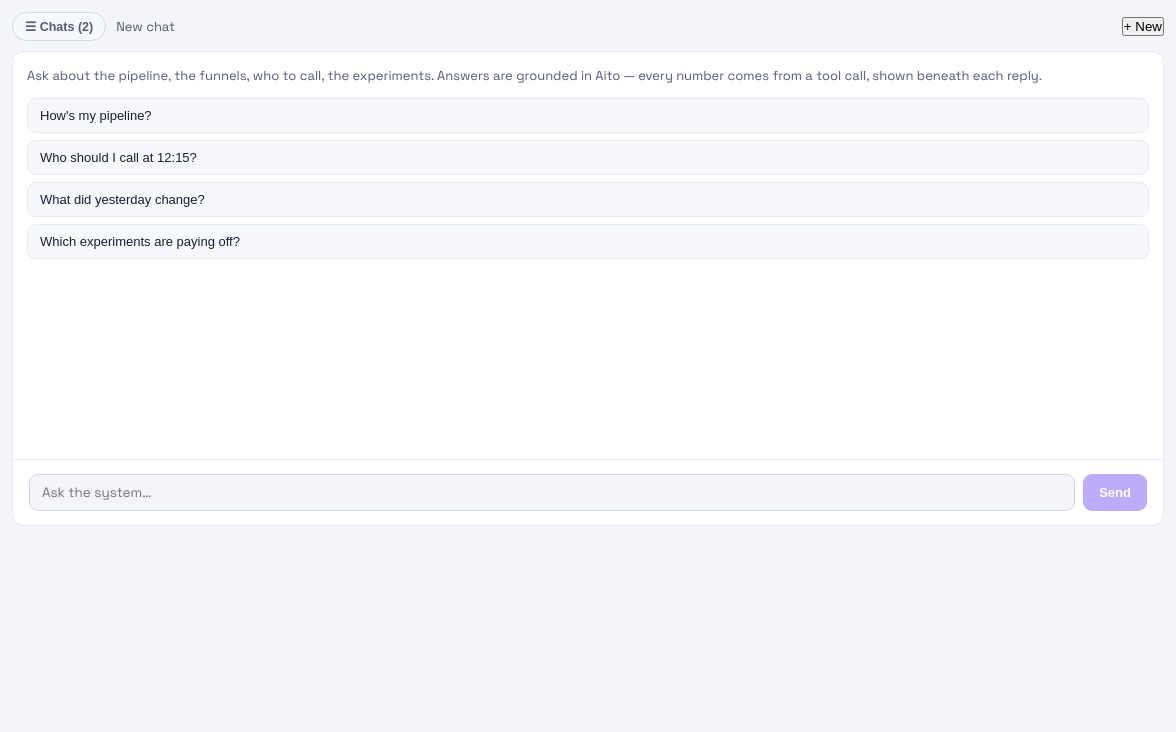
Scenario: Chat view › deletes a conversation only after a confirm (two taps)
Click the button "+ New" at (1143, 26), box x1=1122 y1=17 x2=1164 y2=36
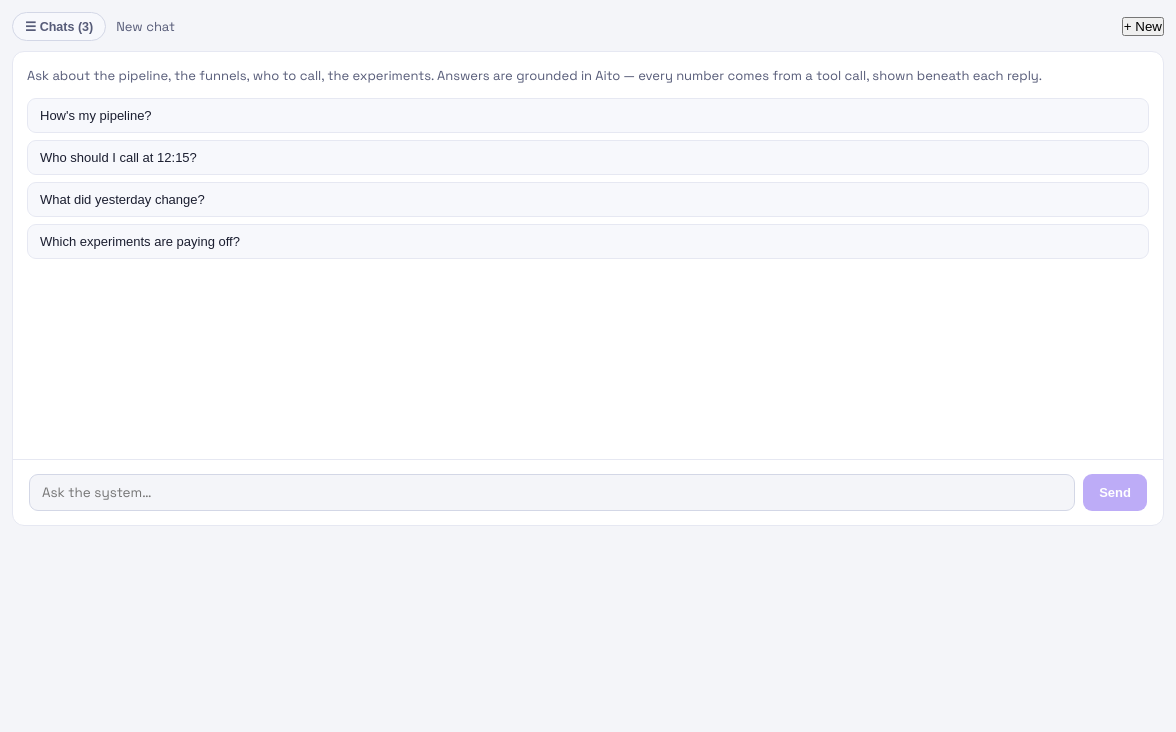
Click the button "☰ Chats (3)" at (59, 26), box x1=12 y1=12 x2=106 y2=41
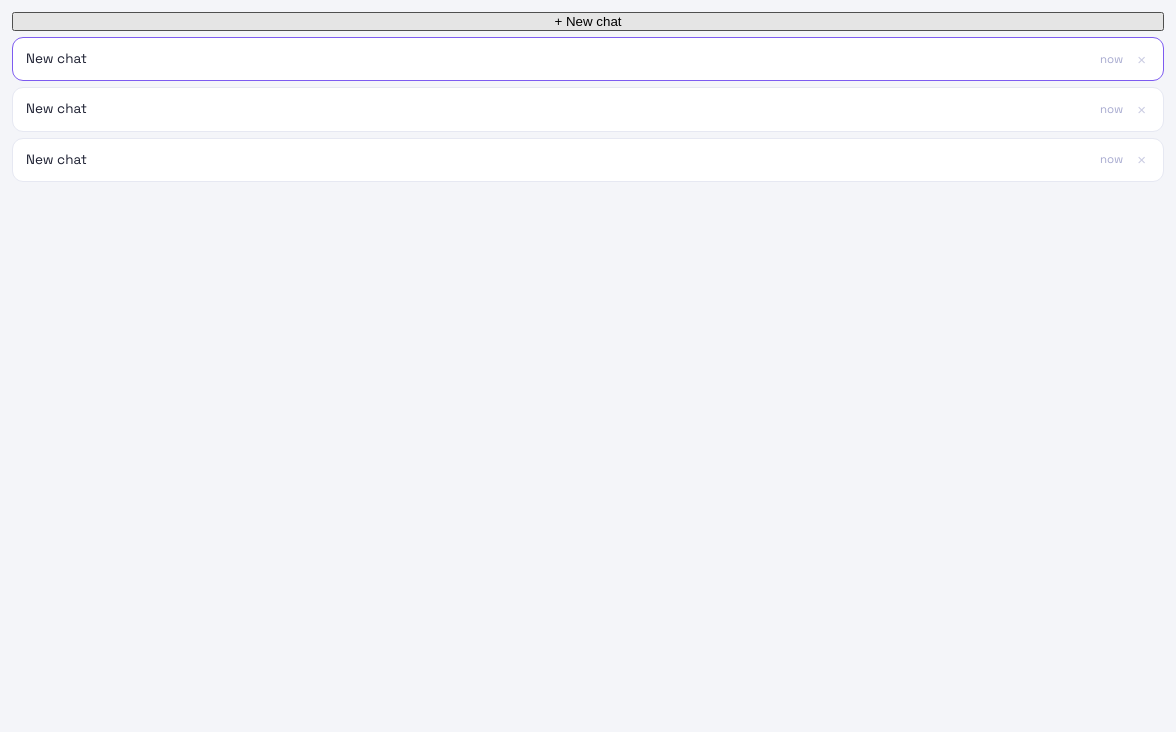
Click the 1st button with class "ct-del" at (1142, 59), box x1=1133 y1=50 x2=1150 y2=69
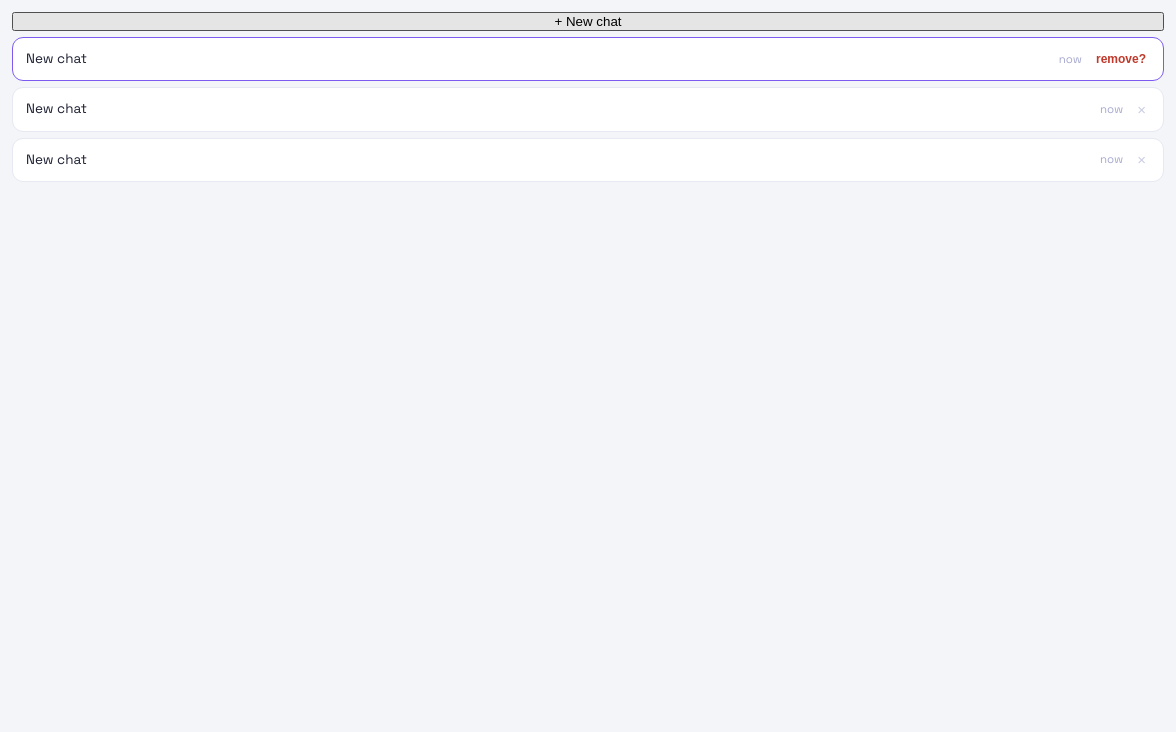
Expected: the number of elements with class "chat-row" is 3, x1=12 y1=37 x2=1164 y2=81; x1=12 y1=87 x2=1164 y2=132; x1=12 y1=138 x2=1164 y2=182
Click the button with class "ct-del" showing "remove?" at (1121, 59), box x1=1092 y1=51 x2=1150 y2=67
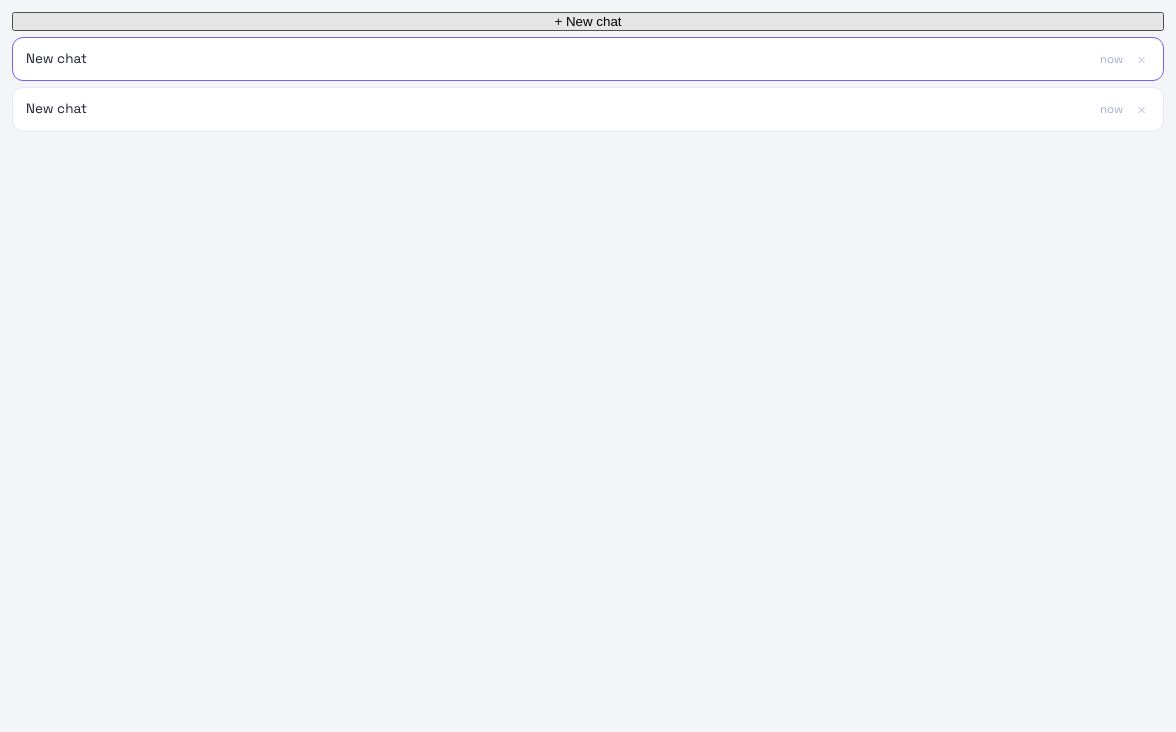
Expected: the number of elements with class "chat-row" is 2, x1=12 y1=37 x2=1164 y2=81; x1=12 y1=87 x2=1164 y2=132
